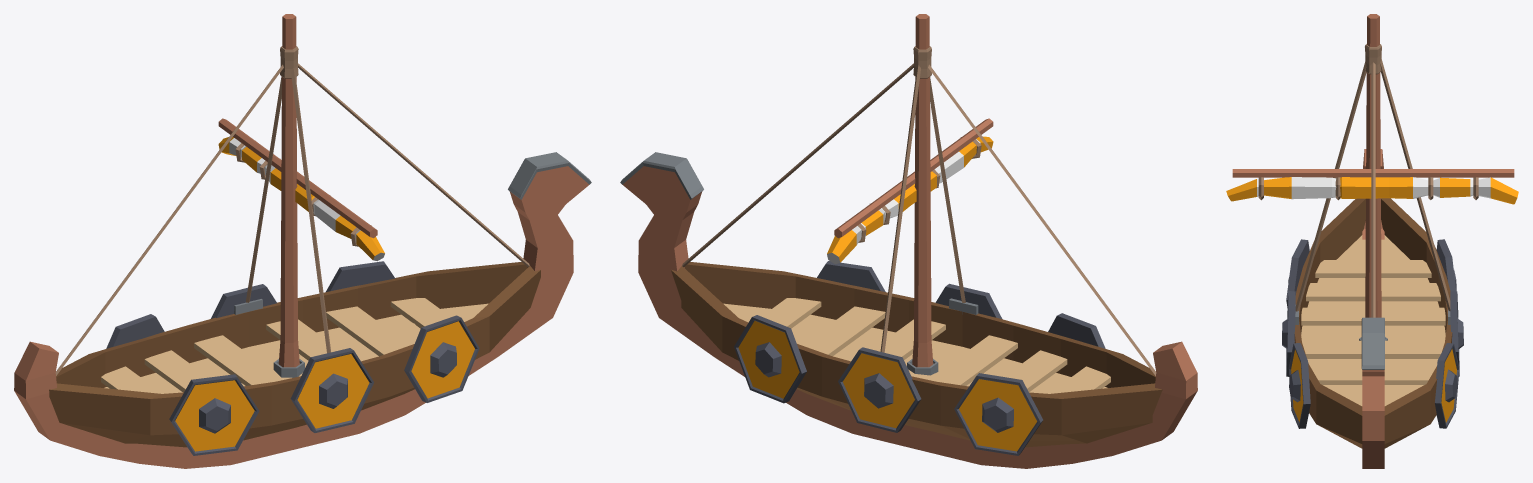
Rendered from Longship.fbx.
3 renders of one model, left to right at view 1: azimuth 30°, elevation 25°; view 2: azimuth 150°, elevation 25°; view 3: azimuth 270°, elevation 25°, orthographic. The views are drawn at different scales.
Visible parts, largest first — view 1: Cube; view 2: Cube; view 3: Cube.
Boxes of the visible parts, x1,y1,x2,y2 form: Cube: [14, 14, 591, 468]; Cube: [620, 14, 1197, 468]; Cube: [1226, 14, 1518, 468].
Bounding box in the file's own units: 674 × 488 × 324.
